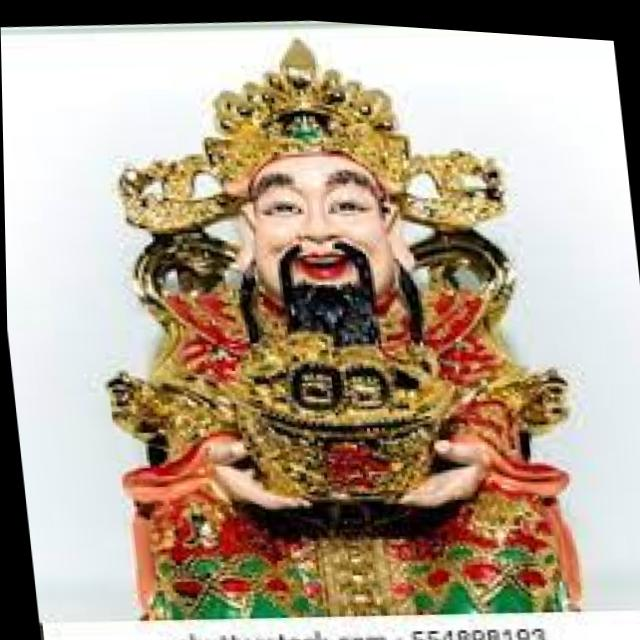Cai shen: (78, 4, 565, 618)
